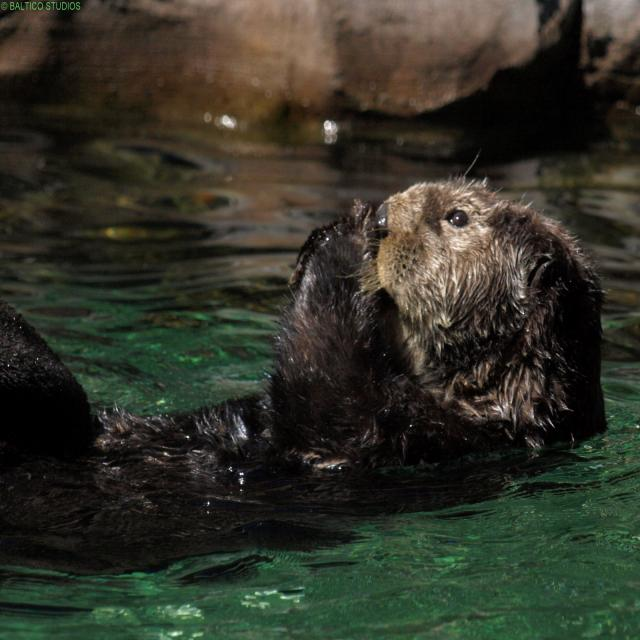otter: (1, 178, 608, 468)
